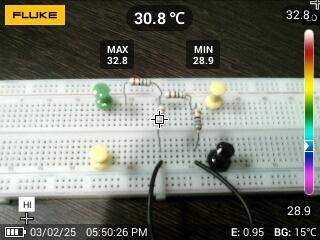resistor: (190, 106, 204, 133), (161, 88, 190, 101), (125, 76, 154, 87), (155, 103, 167, 125)
